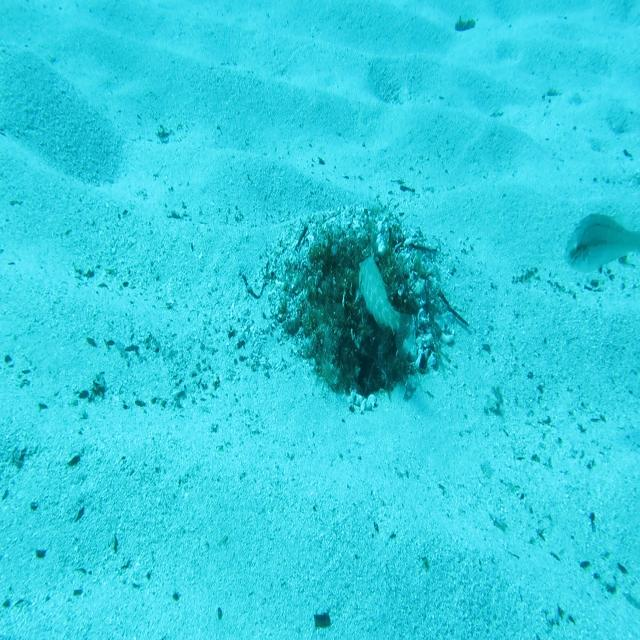FAN: (356, 242, 418, 368)
core_nest: (334, 249, 371, 280)
female: (563, 207, 640, 276)
nest: (262, 190, 458, 428)
vegetation: (312, 610, 332, 630), (453, 18, 477, 34)
